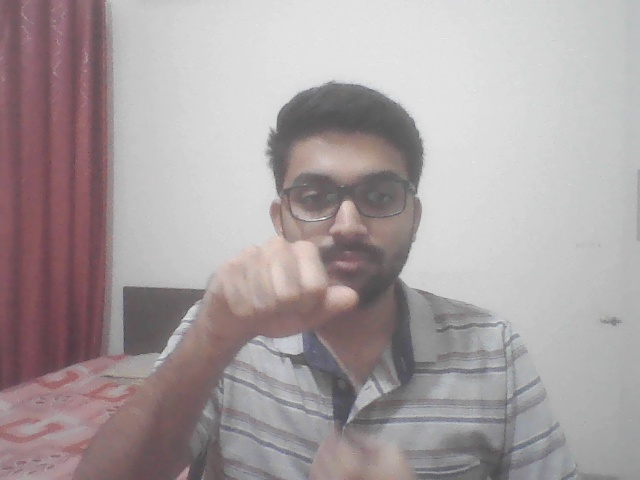yes: (182, 221, 370, 360)
